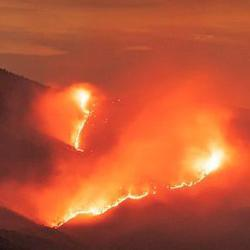fire: (72, 86, 92, 154), (198, 151, 231, 172), (56, 203, 104, 216)
